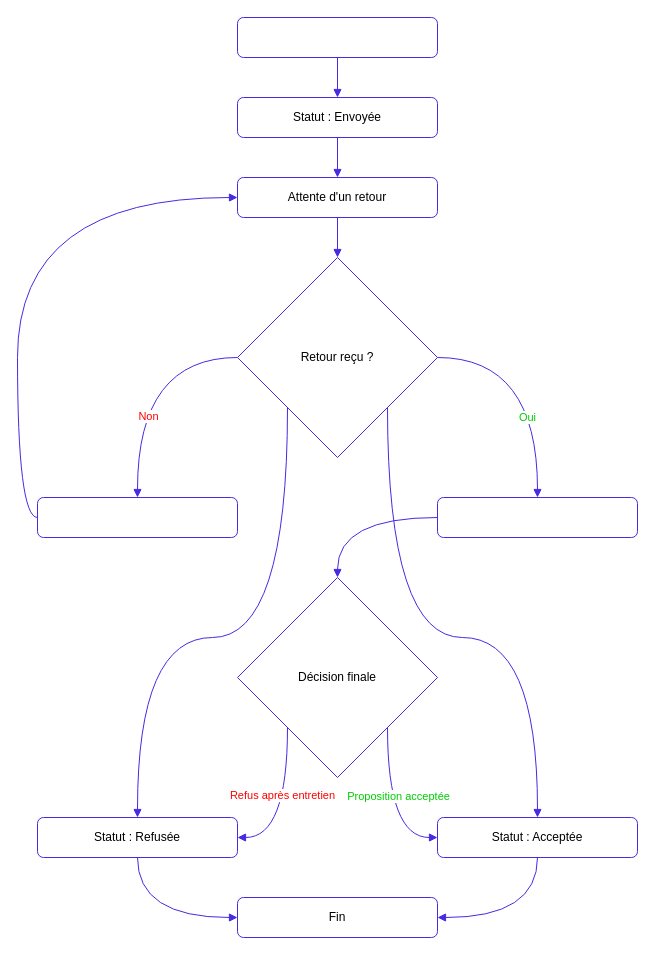
The diagram is 655 pixels wide and 955 high, and some of its shapes have lost their labels. Here are the shapes that lost their labels. From the top down, the centre of each, then its label:
the point at 337,37: Création de la candidature
the point at 137,517: Statut : À relancer
the point at 537,517: Statut : Entretien
